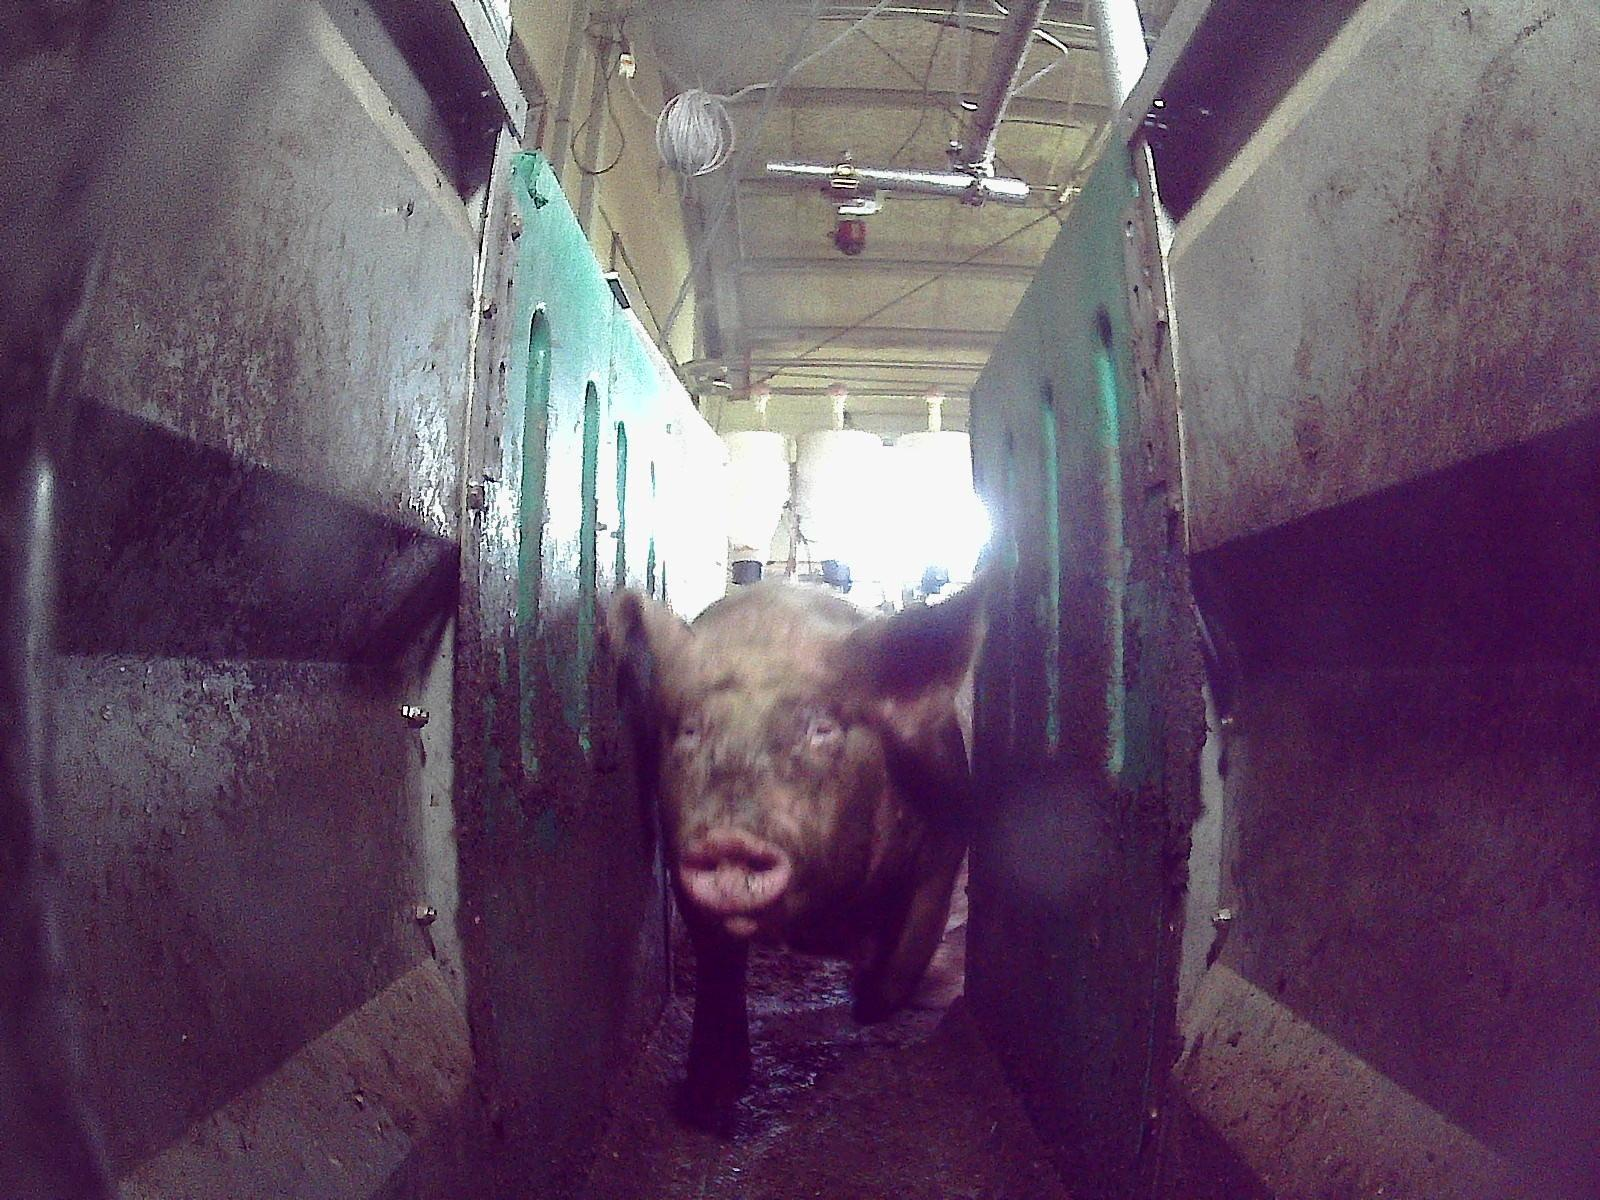Face: (658, 624, 870, 935)
